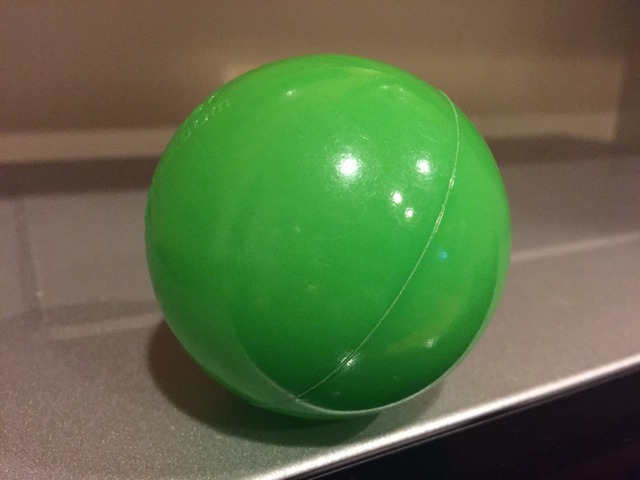Ball: (142, 57, 510, 416)
